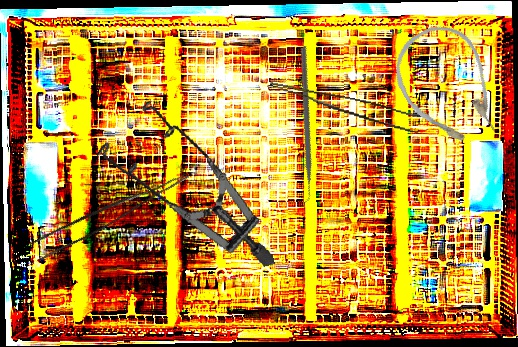Cannula: (381, 13, 515, 162)
Chopper: (225, 45, 379, 208)
Speculum: (86, 81, 276, 300)
Tissue Forceps: (29, 155, 190, 266), (265, 81, 423, 134)
